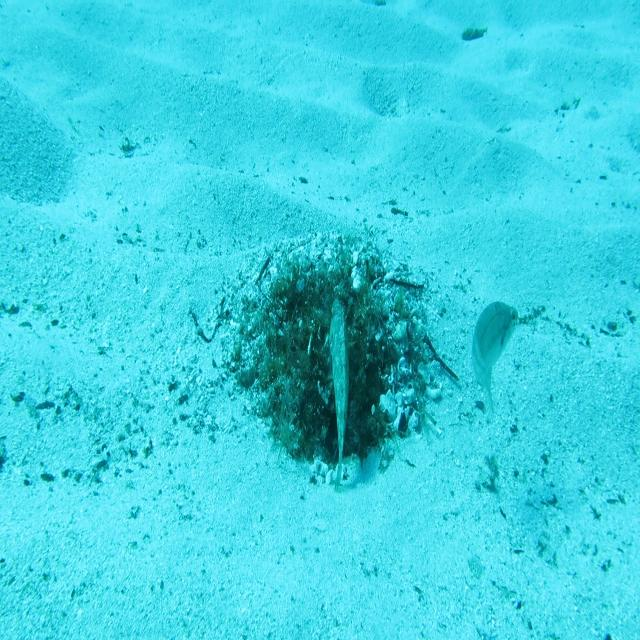FAN: (318, 298, 361, 495)
core_nest: (302, 286, 349, 318)
female: (468, 299, 520, 426)
nest: (212, 222, 454, 496)
vegetation: (462, 28, 487, 42)
